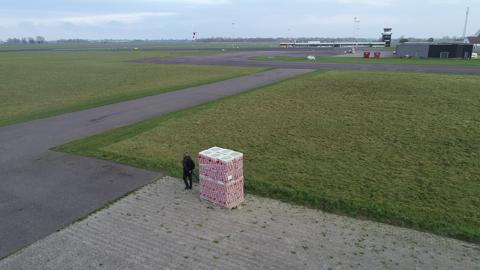RockwoolPallet: (198, 145, 246, 210)
